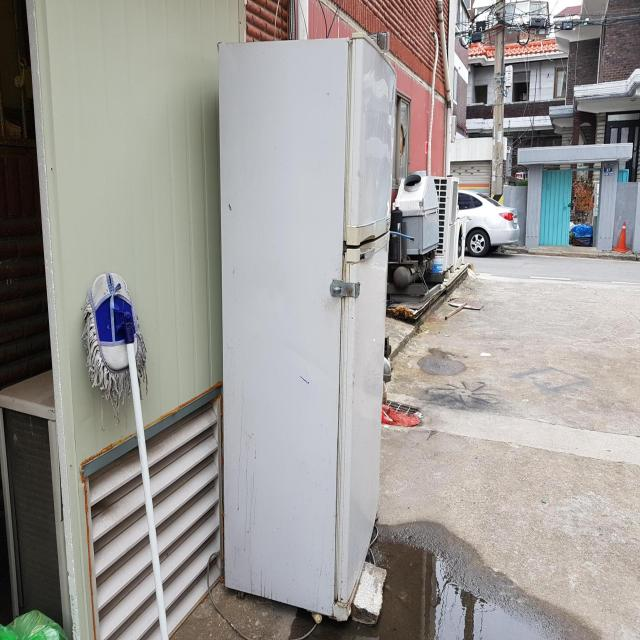refrigerator: (215, 28, 398, 623)
